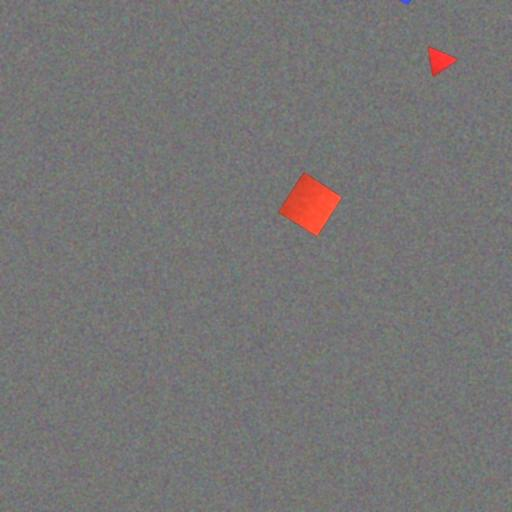RED_SQUARE: (277, 171, 343, 238)
